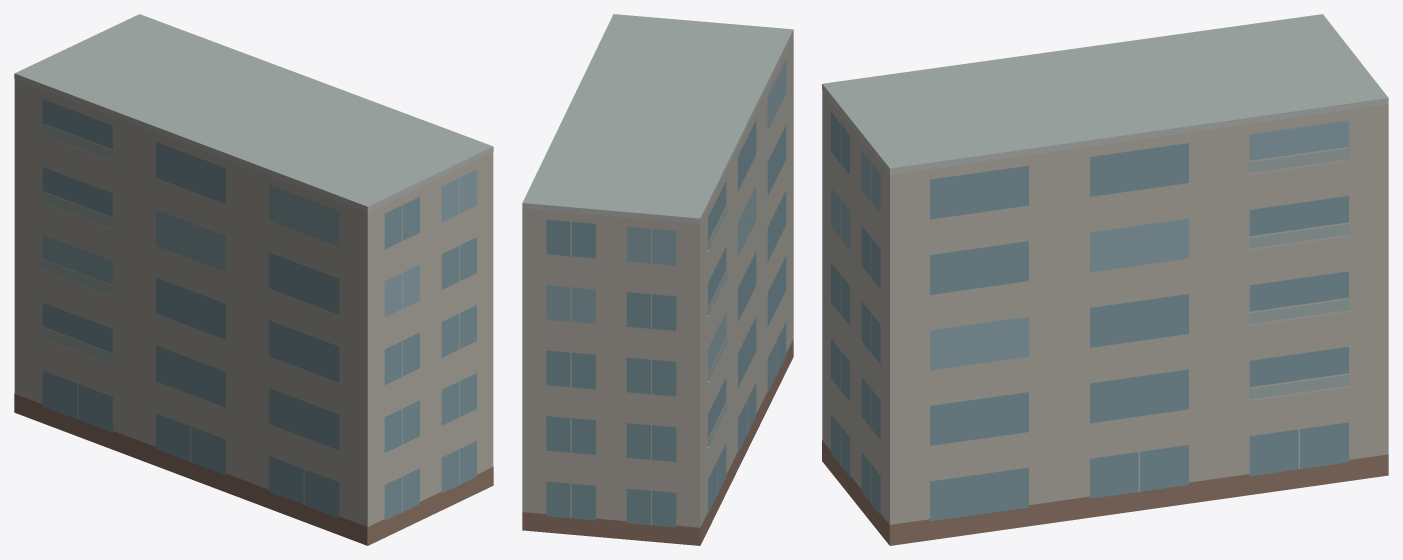
Rendered from survey-upis-32622173.glb.
3 renders of one model, left to right at view 1: azimuth 30°, elevation 25°; view 2: azimuth 150°, elevation 25°; view 3: azimuth 270°, elevation 25°, orthographic. The views are drawn at different scales.
Parts seen in each view (by area): view 1: survey-upis-32622173.tmp; view 2: survey-upis-32622173.tmp; view 3: survey-upis-32622173.tmp.
Part boxes in pixels (bbox=[...]): survey-upis-32622173.tmp: bbox=[14, 14, 493, 545]; survey-upis-32622173.tmp: bbox=[522, 14, 793, 545]; survey-upis-32622173.tmp: bbox=[822, 14, 1388, 545].
Size of the model in its own units: 12.74 by 14.5 by 19.74.
